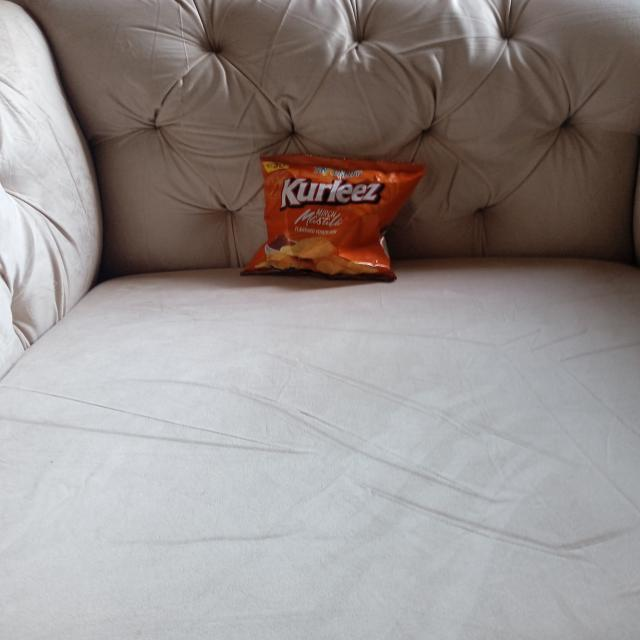Plastic: (236, 156, 422, 286)
